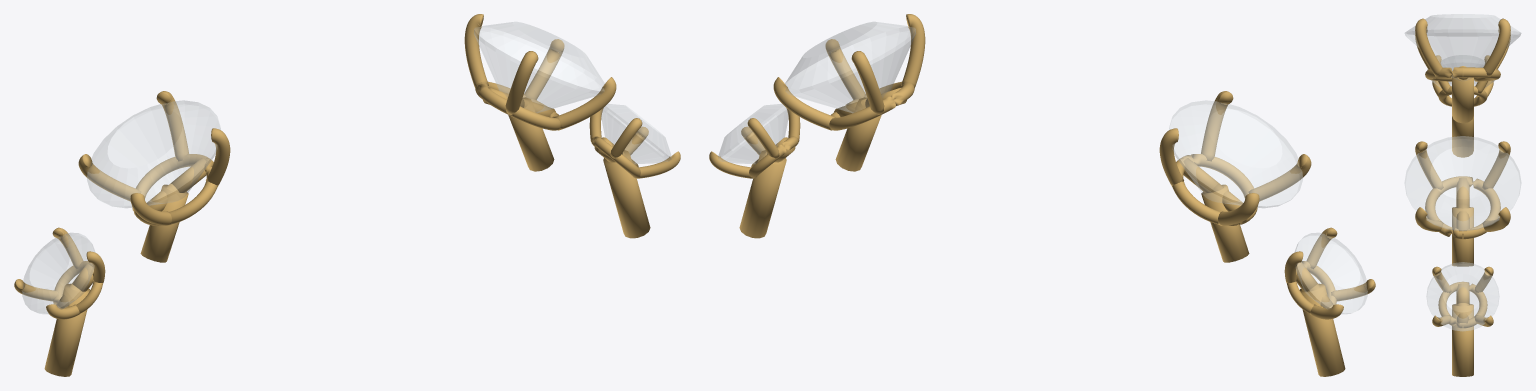
File: layouts-five-stone.glb
The picture shows the model from 3 angles, left to right: view 1: azimuth 30°, elevation 25°; view 2: azimuth 150°, elevation 25°; view 3: azimuth 270°, elevation 25°; orthographic projection. The views are drawn at different scales.
Parts seen in each view (by area): view 1: Gem.001, Gem.003, Gem.002, Gem.004, Side head support.003, Side head support.001, Lower gallery.001, Side head support.002, Side head support, Lower gallery.003, Prong.013, Prong.015 (+9 smaller); view 2: Gem.001, Gem.003, Gem.002, Gem.004, Side head support.003, Side head support.001, Lower gallery.001, Side head support.002, Side head support, Lower gallery.003, Prong.014, Prong.012 (+9 smaller); view 3: Gem.003, Gem.004, Gem.001, Lower gallery.003, Side head support.003, Side head support, Side head support.002, Lower gallery.001, Side head support.001, Lower gallery.004, Prong.004, Prong.007 (+16 smaller).
Boxes of the visible parts, <box> form: Gem.001: <box>87,100,220,207</box>; Gem.003: <box>474,22,604,112</box>; Gem.002: <box>22,233,94,313</box>; Gem.004: <box>600,104,671,163</box>; Side head support.003: <box>603,150,650,238</box>; Side head support.001: <box>44,283,90,376</box>; Lower gallery.001: <box>132,154,217,225</box>; Side head support.002: <box>508,97,554,171</box>; Side head support: <box>140,184,188,262</box>; Lower gallery.003: <box>475,81,560,130</box>; Prong.013: <box>464,14,488,88</box>; Prong.015: <box>553,77,616,130</box>; Gem.001: <box>1169,100,1302,207</box>; Gem.003: <box>785,22,915,112</box>; Gem.002: <box>1295,233,1367,313</box>; Gem.004: <box>718,104,789,163</box>; Side head support.003: <box>739,150,786,238</box>; Side head support.001: <box>1299,283,1345,376</box>; Lower gallery.001: <box>1172,154,1257,225</box>; Side head support.002: <box>835,97,881,171</box>; Side head support: <box>1201,184,1249,262</box>; Lower gallery.003: <box>829,81,914,130</box>; Prong.014: <box>901,14,925,88</box>; Prong.012: <box>773,77,836,130</box>; Gem.003: <box>1404,136,1521,230</box>; Gem.004: <box>1426,262,1499,331</box>; Gem.001: <box>1404,14,1521,80</box>; Lower gallery.003: <box>1425,176,1500,239</box>; Side head support.003: <box>1452,304,1473,376</box>; Side head support: <box>1452,74,1473,123</box>; Side head support.002: <box>1452,207,1473,266</box>; Lower gallery.001: <box>1425,67,1500,81</box>; Side head support.001: <box>1452,116,1473,157</box>; Lower gallery.004: <box>1438,281,1487,328</box>; Prong.004: <box>1483,18,1510,76</box>; Prong.007: <box>1415,18,1442,76</box>.
Size of the model in its own units: 15.89 by 5.58 by 3.2.
